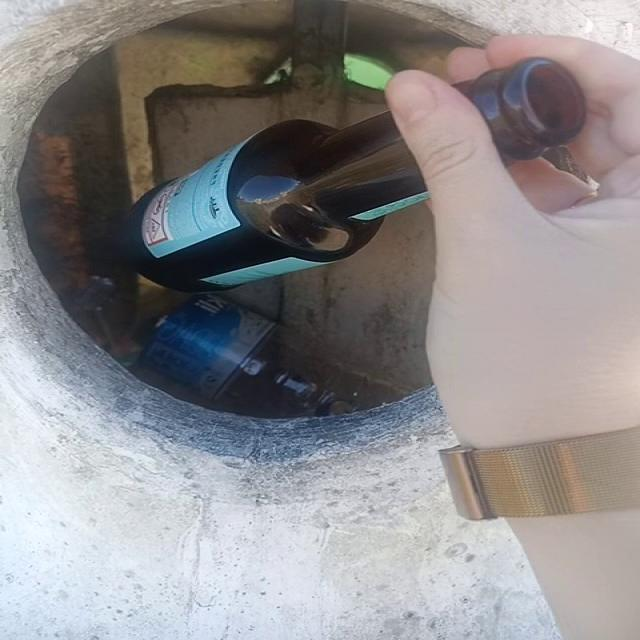glass: (129, 112, 427, 290), (455, 58, 585, 162)
